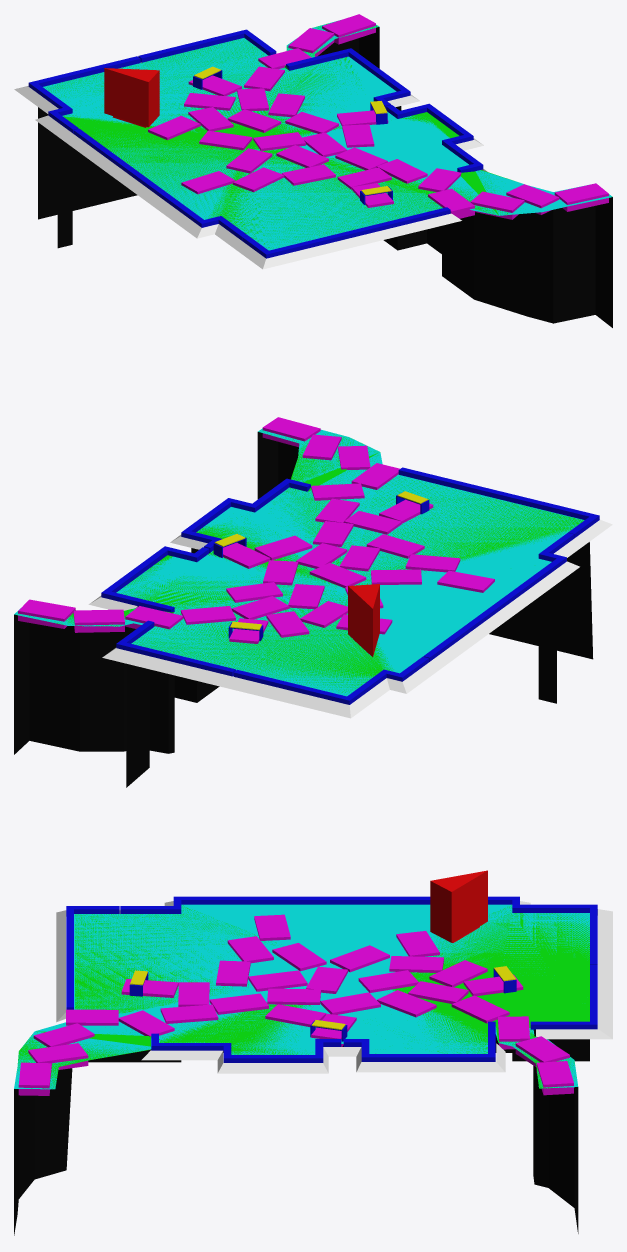
File: Memorial_Park.fbx
3 renders of one model, top to bottom at view 1: azimuth 30°, elevation 25°; view 2: azimuth 150°, elevation 25°; view 3: azimuth 270°, elevation 25°, orthographic. The views are drawn at different scales.
Visible parts, largest first — view 1: mesh_MemorialPark_Deco, mesh_MemorialPark_Hole, mesh_MemorialPark_Mask, mesh_MemorialPark_Contour, mesh_MemorialPark_Border_03, mesh_MemorialPark_Border_04, mesh_MemorialPark_Border_01, mesh_MemorialPark_Border_06, mesh_MemorialPark_Border_02, mesh_MemorialPark_Border_05; view 2: mesh_MemorialPark_Deco, mesh_MemorialPark_Hole, mesh_MemorialPark_Mask, mesh_MemorialPark_Contour, mesh_MemorialPark_Border_04, mesh_MemorialPark_Border_03, mesh_MemorialPark_Border_01, mesh_MemorialPark_Border_02, mesh_MemorialPark_Border_06, mesh_MemorialPark_Border_05; view 3: mesh_MemorialPark_Deco, mesh_MemorialPark_Mask, mesh_MemorialPark_Hole, mesh_MemorialPark_Contour, mesh_MemorialPark_Border_03, mesh_MemorialPark_Border_06, mesh_MemorialPark_Border_02, mesh_MemorialPark_Border_01, mesh_MemorialPark_Border_04, mesh_MemorialPark_Border_05.
Part boxes in pixels (bbox=[...]): mesh_MemorialPark_Deco: bbox=[43, 14, 611, 250]; mesh_MemorialPark_Hole: bbox=[38, 27, 612, 327]; mesh_MemorialPark_Mask: bbox=[46, 23, 612, 250]; mesh_MemorialPark_Contour: bbox=[14, 62, 487, 269]; mesh_MemorialPark_Border_03: bbox=[73, 128, 248, 240]; mesh_MemorialPark_Border_04: bbox=[242, 207, 450, 258]; mesh_MemorialPark_Border_01: bbox=[28, 56, 140, 133]; mesh_MemorialPark_Border_06: bbox=[386, 103, 483, 172]; mesh_MemorialPark_Border_02: bbox=[286, 48, 410, 109]; mesh_MemorialPark_Border_05: bbox=[138, 29, 276, 62]; mesh_MemorialPark_Deco: bbox=[14, 417, 584, 696]; mesh_MemorialPark_Hole: bbox=[14, 432, 593, 787]; mesh_MemorialPark_Mask: bbox=[19, 430, 583, 694]; mesh_MemorialPark_Contour: bbox=[89, 519, 612, 718]; mesh_MemorialPark_Border_04: bbox=[398, 467, 599, 538]; mesh_MemorialPark_Border_03: bbox=[423, 533, 573, 661]; mesh_MemorialPark_Border_01: bbox=[233, 656, 428, 704]; mesh_MemorialPark_Border_02: bbox=[101, 546, 209, 612]; mesh_MemorialPark_Border_06: bbox=[181, 478, 310, 552]; mesh_MemorialPark_Border_05: bbox=[116, 620, 235, 676]; mesh_MemorialPark_Deco: bbox=[14, 870, 589, 1095]; mesh_MemorialPark_Mask: bbox=[17, 905, 589, 1088]; mesh_MemorialPark_Hole: bbox=[14, 1029, 589, 1235]; mesh_MemorialPark_Contour: bbox=[56, 901, 612, 1073]; mesh_MemorialPark_Border_03: bbox=[120, 896, 430, 913]; mesh_MemorialPark_Border_06: bbox=[151, 1033, 341, 1062]; mesh_MemorialPark_Border_02: bbox=[343, 1021, 495, 1061]; mesh_MemorialPark_Border_01: bbox=[488, 896, 597, 964]; mesh_MemorialPark_Border_04: bbox=[66, 906, 119, 1009]; mesh_MemorialPark_Border_05: bbox=[530, 965, 597, 1029].
Size of the model in its own units: 1669 by 818 by 2194.
